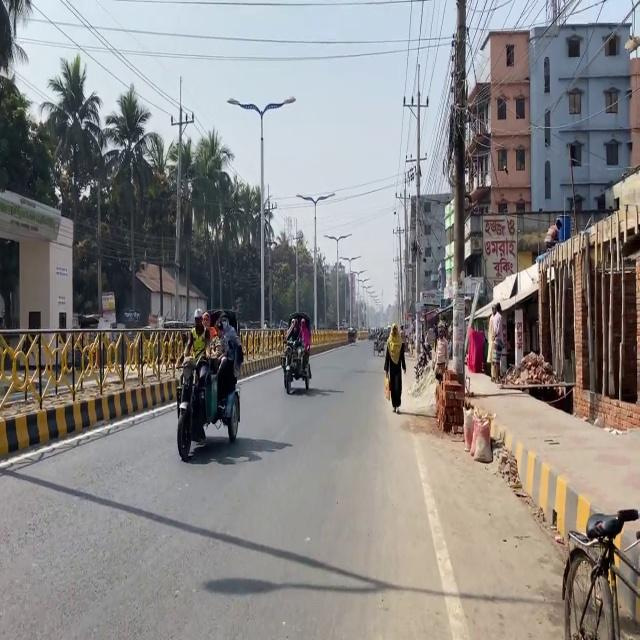Construction-barrier: (0, 373, 178, 459), (520, 446, 590, 560)
Fallen-tree: (281, 333, 312, 394), (413, 342, 432, 379), (373, 337, 385, 355)
Garbage: (434, 369, 465, 434)
Garbage-bin: (383, 323, 406, 413), (486, 302, 504, 382), (544, 218, 562, 250)
Pole: (0, 304, 186, 446)
Pothole: (462, 360, 639, 630)
Traffic-cone: (175, 336, 242, 462), (346, 326, 356, 342)
